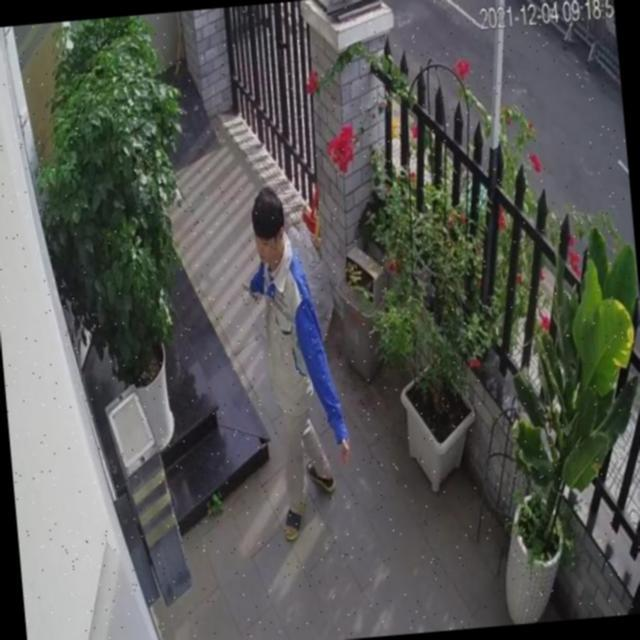person: (236, 181, 359, 537)
